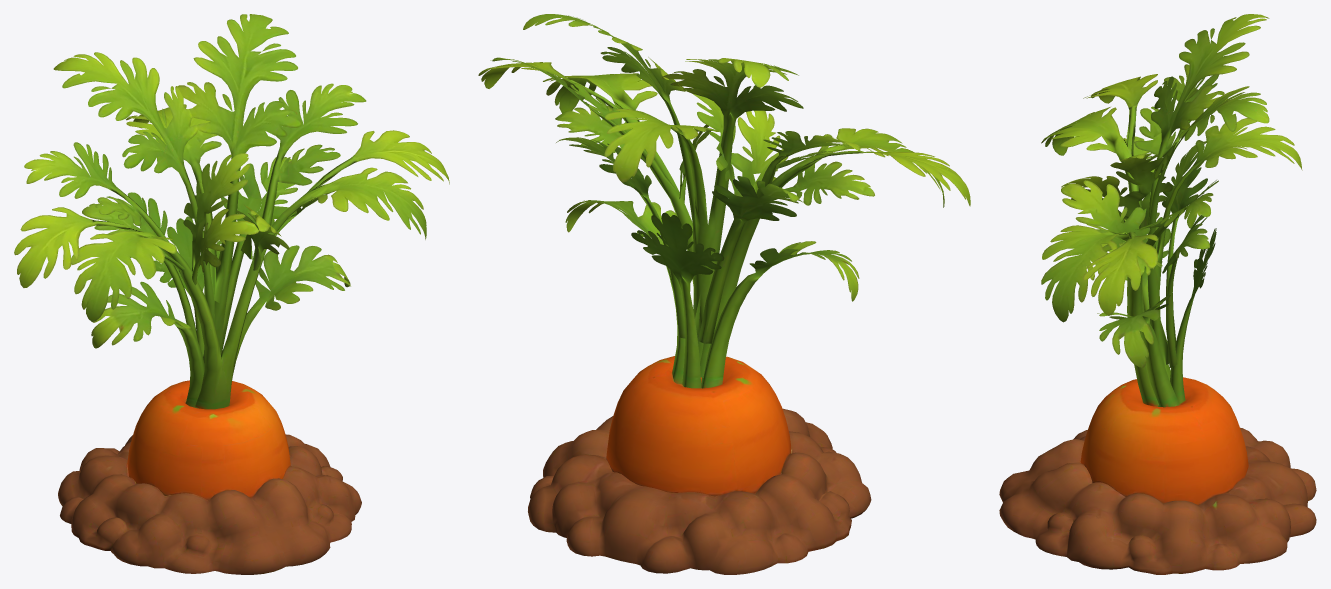
The model's file is carrot.glb.
The picture shows the model from 3 angles, left to right: view 1: azimuth 30°, elevation 25°; view 2: azimuth 150°, elevation 25°; view 3: azimuth 270°, elevation 25°; orthographic projection. The views are drawn at different scales.
Parts seen in each view (by area): view 1: tripo_node_f27a8fa8-abb2-46ae-bf21-97012ad7c26d; view 2: tripo_node_f27a8fa8-abb2-46ae-bf21-97012ad7c26d; view 3: tripo_node_f27a8fa8-abb2-46ae-bf21-97012ad7c26d.
Part boxes in pixels (left/top/right/bottom): tripo_node_f27a8fa8-abb2-46ae-bf21-97012ad7c26d: left=14, top=14, right=449, bottom=574; tripo_node_f27a8fa8-abb2-46ae-bf21-97012ad7c26d: left=478, top=14, right=970, bottom=574; tripo_node_f27a8fa8-abb2-46ae-bf21-97012ad7c26d: left=999, top=14, right=1316, bottom=574.
Size of the model in its own units: 0.9995 by 0.9839 by 0.6275.
Materials: 1 (1 with a texture image).
